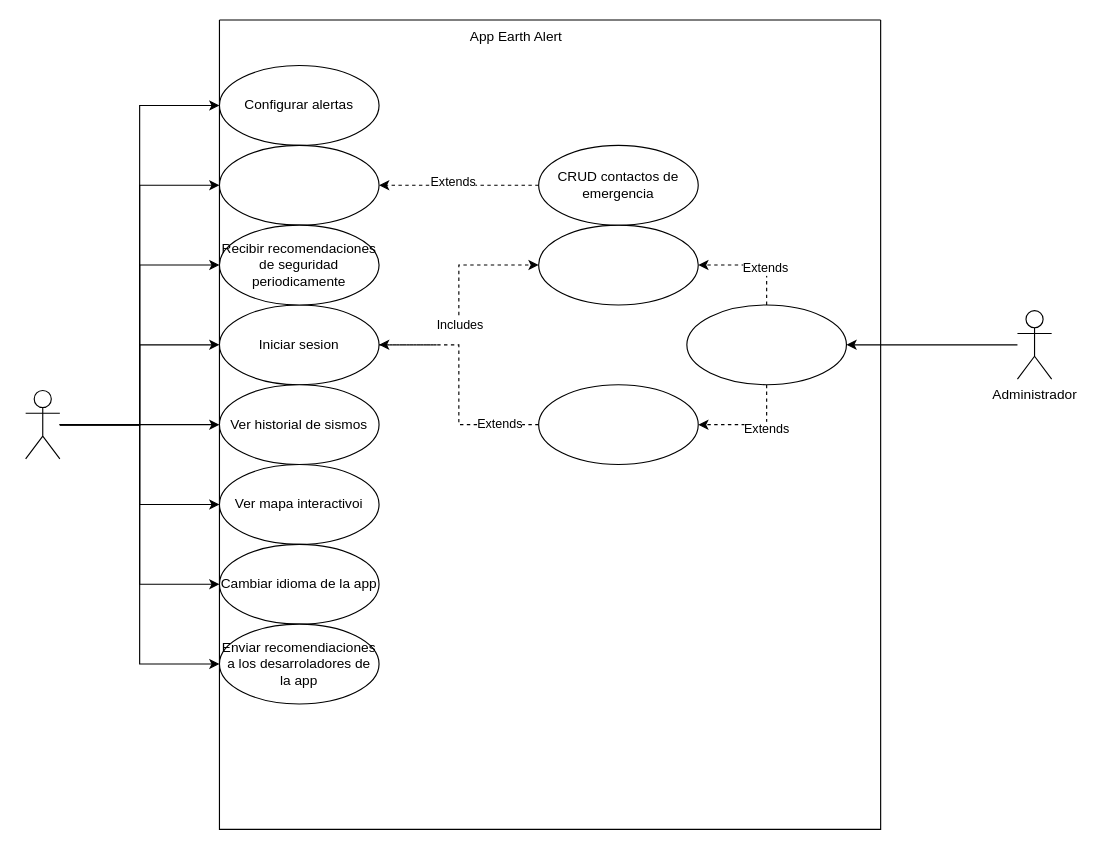
Image size: 1097x849. Some labels were removed from this diagram. Here are the shapes that lost their labels. From the top down, the centre of each, then its label:
the point at 298,184: Gestionar contactos de emergencia
the point at 618,264: Inciiar sesion con google
the point at 766,344: Administrar usuarios
the point at 42,424: Usuario
the point at 618,424: Registrarse en la app con un formulario
